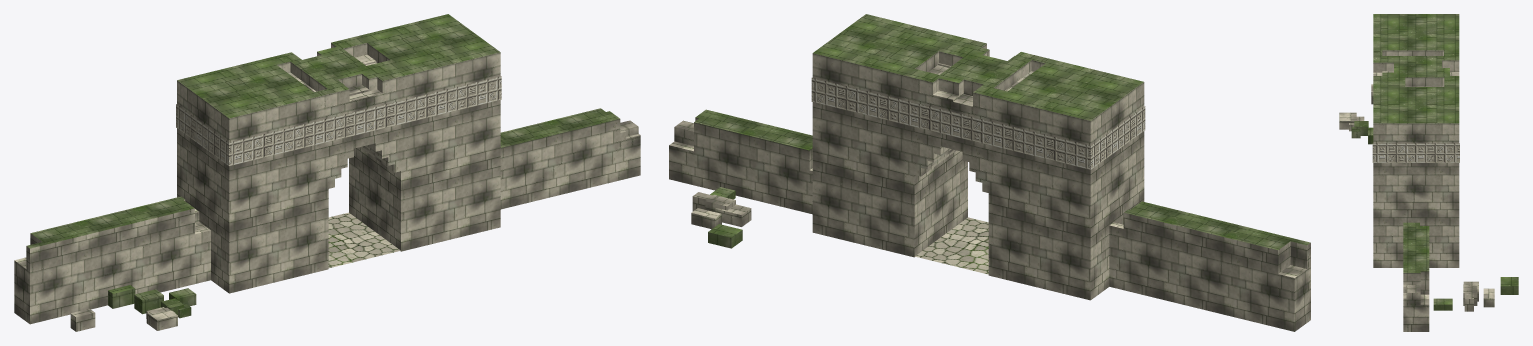
File: ruin-arch.ruins-v1.lod1.glb
The picture shows the model from 3 angles, left to right: view 1: azimuth 30°, elevation 25°; view 2: azimuth 150°, elevation 25°; view 3: azimuth 270°, elevation 25°; orthographic projection. The views are drawn at different scales.
Parts seen in each view (by area): view 1: ruin-arch; view 2: ruin-arch; view 3: ruin-arch.
Boxes of the visible parts, x1=… form: ruin-arch: x1=14, y1=14, x2=640, y2=331; ruin-arch: x1=669, y1=14, x2=1310, y2=331; ruin-arch: x1=1339, y1=14, x2=1518, y2=331.
Bounding box in the file's own units: 27 × 7.4 × 8.31.
4 materials, 4 textured.
